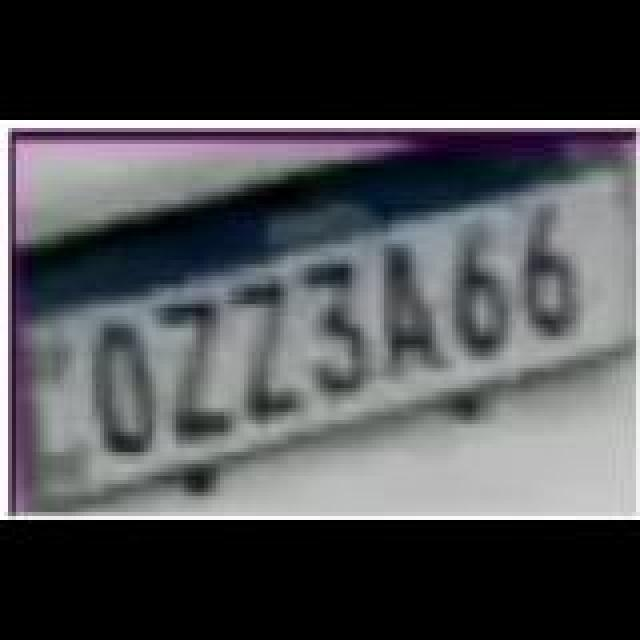3: (300, 260, 372, 396)
6: (520, 204, 584, 340), (448, 228, 512, 356)
A: (380, 246, 444, 378)
O: (90, 322, 158, 462)
Z: (158, 300, 234, 444), (232, 282, 304, 422)
